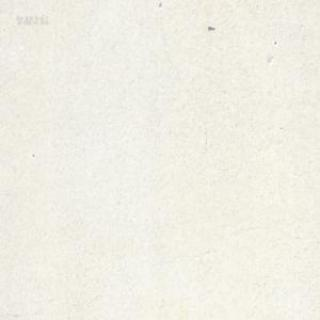Nailtrack_idkeyframe: (208, 24, 215, 30)
